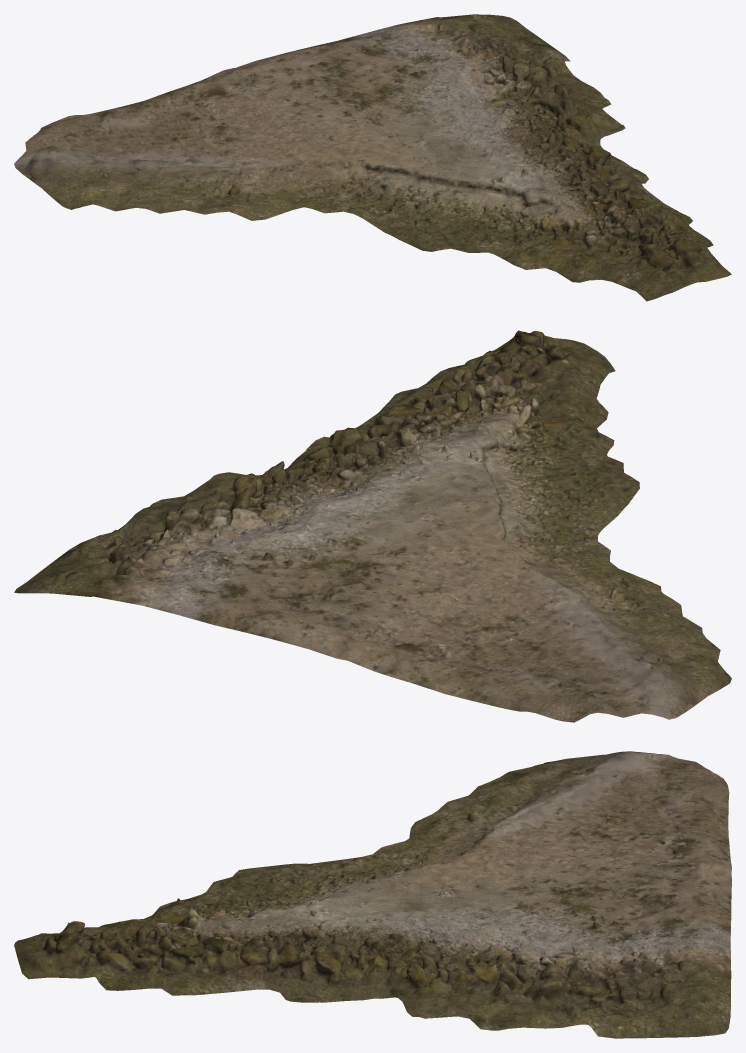
The model's file is coast_rocks_02.glb.
3 views of the same model, one above another, from view 1: azimuth 30°, elevation 25°; view 2: azimuth 150°, elevation 25°; view 3: azimuth 270°, elevation 25° (orthographic). The views are drawn at different scales.
Visible parts, largest first — view 1: coast_rocks_02; view 2: coast_rocks_02; view 3: coast_rocks_02.
Part boxes in pixels (x1,y1,x2,y2): coast_rocks_02: (14,14,731,301); coast_rocks_02: (14,330,731,722); coast_rocks_02: (14,751,731,1038).
Bounding box in the file's own units: 45.95 × 3.16 × 49.46.
Materials: 1 (1 with a texture image).
